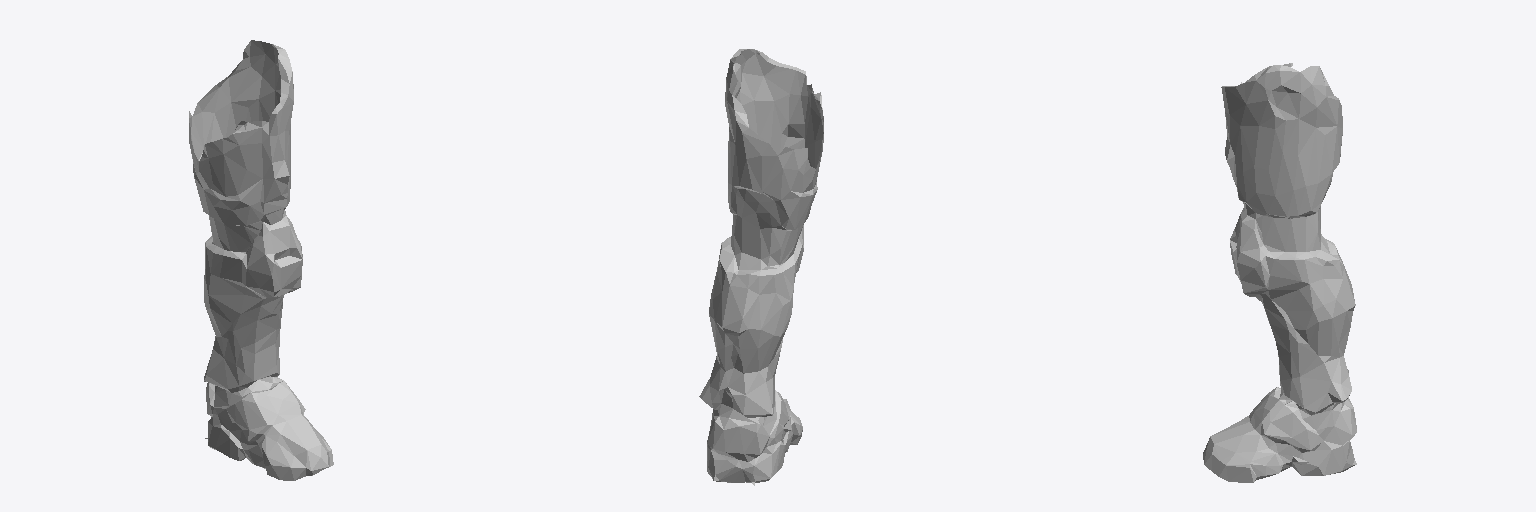
The model's file is Pierna_Izq.obj.
3 renders of one model, left to right at view 1: azimuth 30°, elevation 25°; view 2: azimuth 150°, elevation 25°; view 3: azimuth 270°, elevation 25°, orthographic.
Parts seen in each view (by area): view 1: Pierna_Izq; view 2: Pierna_Izq; view 3: Pierna_Izq.
Part boxes in pixels (x1,y1,x2,y2): Pierna_Izq: (189, 40, 333, 480); Pierna_Izq: (699, 49, 823, 485); Pierna_Izq: (1203, 63, 1356, 482).
Size of the model in its own units: 0.3196 by 1.15 by 0.3993.